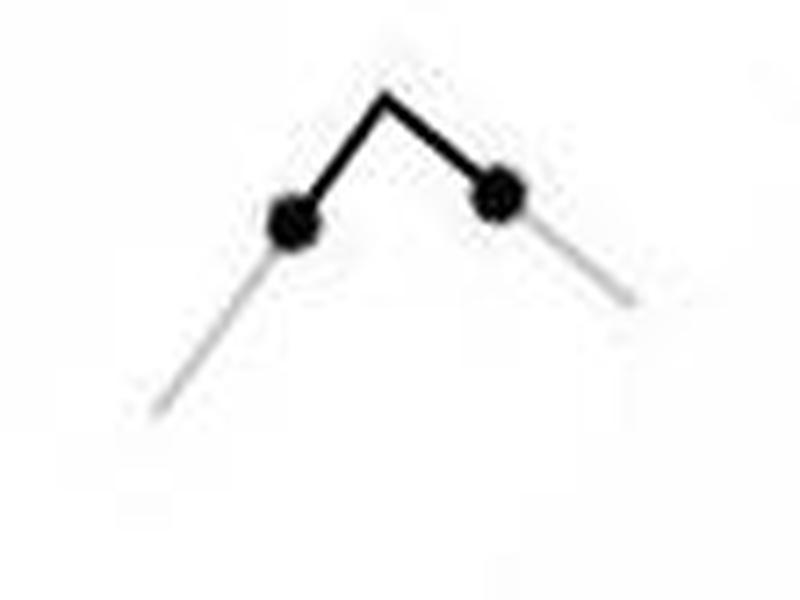butt_weld_90: (133, 79, 636, 422)
